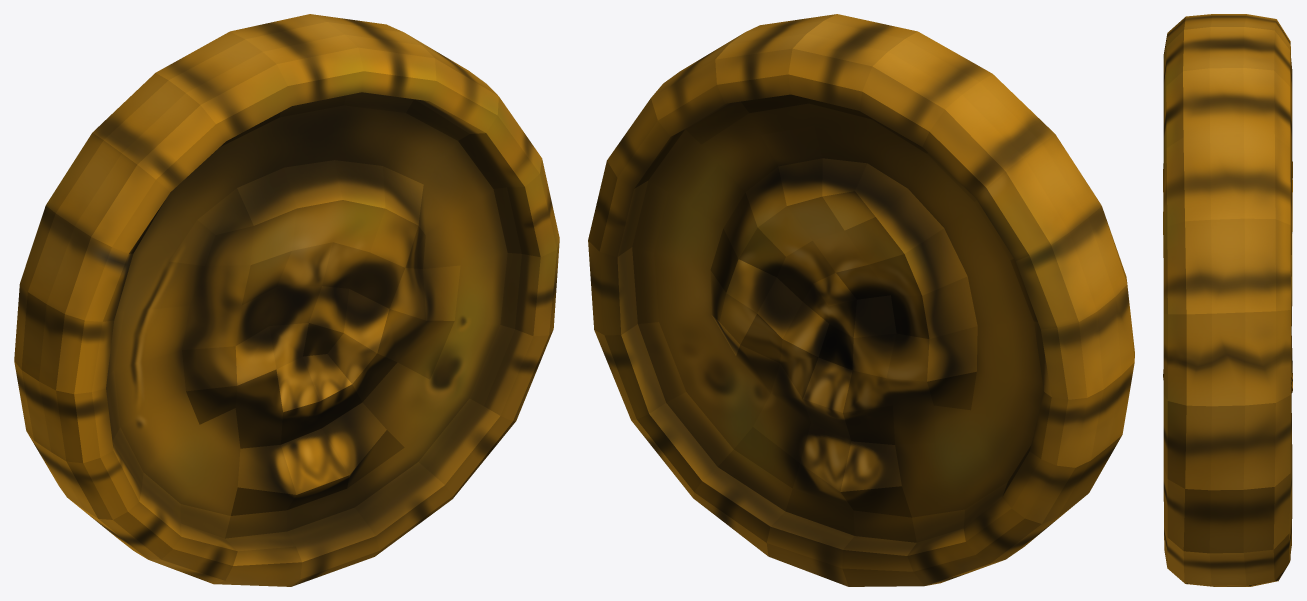
File: coin.obj
3 renders of one model, left to right at view 1: azimuth 30°, elevation 25°; view 2: azimuth 150°, elevation 25°; view 3: azimuth 270°, elevation 25°, orthographic. The views are drawn at different scales.
Visible parts, largest first — view 1: coinlowpoly; view 2: coinlowpoly; view 3: coinlowpoly.
Part boxes in pixels (x1,y1,x2,y2): coinlowpoly: (14, 14, 559, 586); coinlowpoly: (588, 14, 1134, 586); coinlowpoly: (1163, 14, 1292, 586).
Size of the model in its own units: 4.02 by 4.03 by 0.9108.
